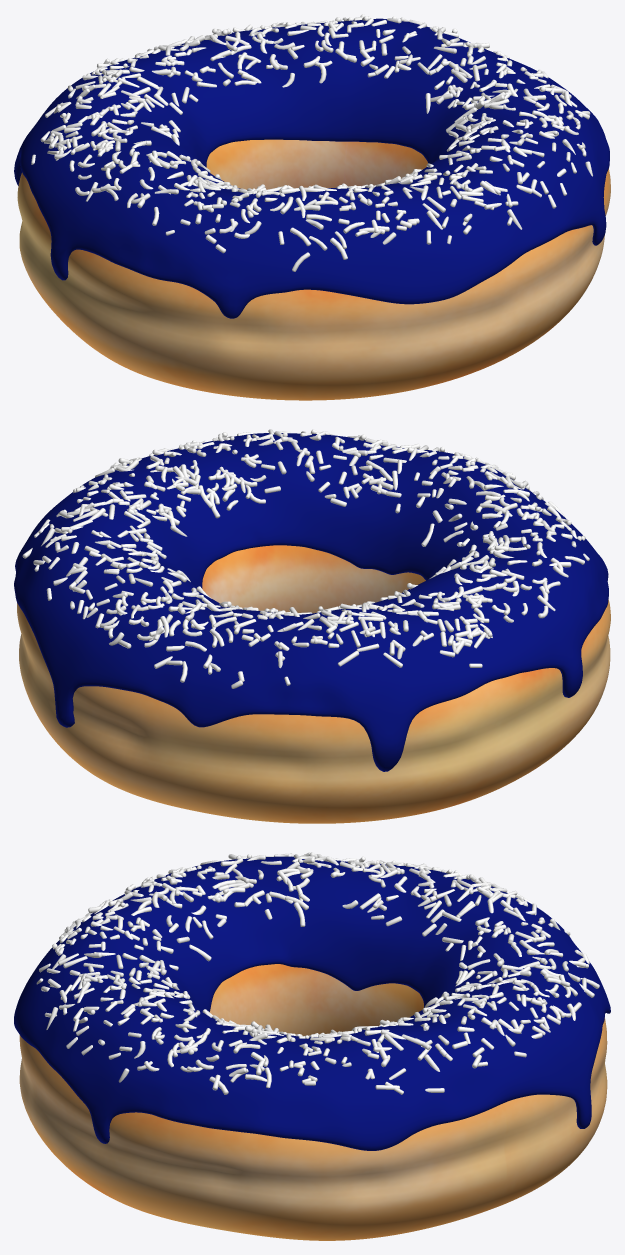
Rendered from donut4.glb.
3 views of the same model, one above another, from view 1: azimuth 30°, elevation 25°; view 2: azimuth 150°, elevation 25°; view 3: azimuth 270°, elevation 25° (orthographic).
Parts seen in each view (by area): view 1: Topping, Donut; view 2: Topping, Donut; view 3: Topping, Donut.
Part boxes in pixels (left/top/right/bottom): Topping: left=14, top=18, right=609, bottom=318; Donut: left=17, top=139, right=610, bottom=400; Topping: left=14, top=433, right=608, bottom=771; Donut: left=17, top=545, right=610, bottom=823; Topping: left=14, top=856, right=610, bottom=1150; Donut: left=19, top=964, right=607, bottom=1240.
Bounding box in the file's own units: 0.1496 × 0.0563 × 0.1458.
Materials: 3 (1 with a texture image).
